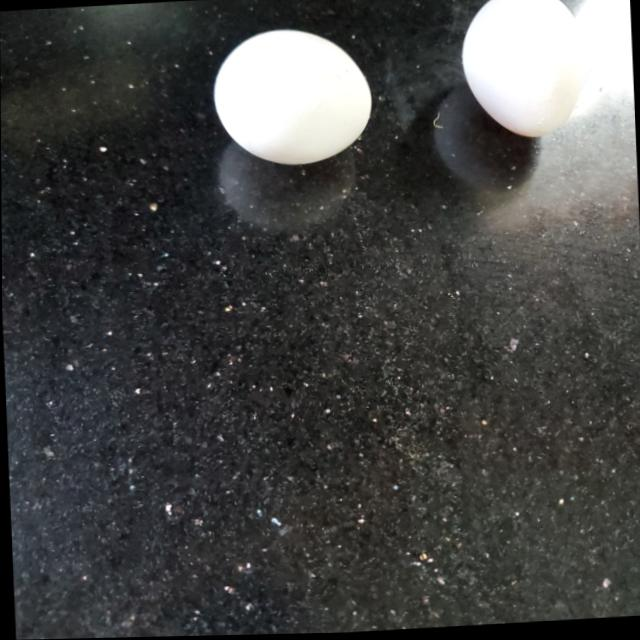egg: (208, 24, 376, 175), (453, 0, 586, 144)
